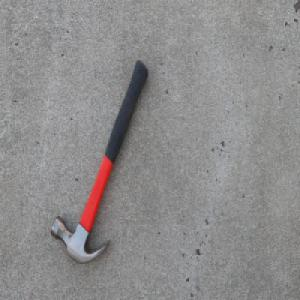Hammer: (50, 59, 148, 266)
